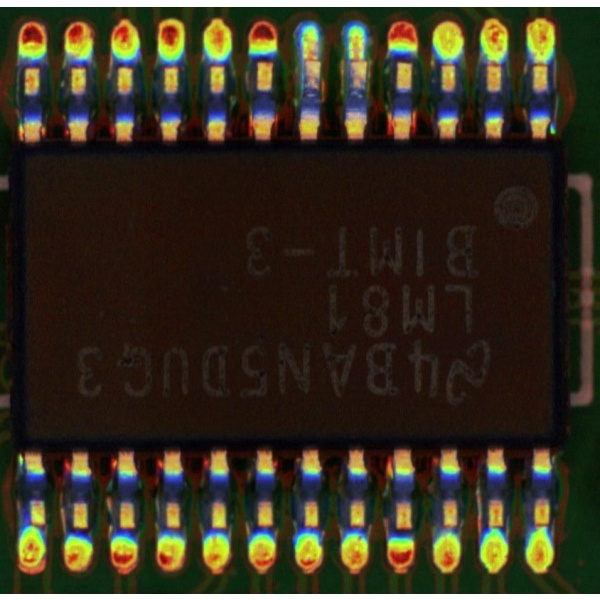Bad_podu: (304, 45, 321, 71), (352, 46, 364, 68)
